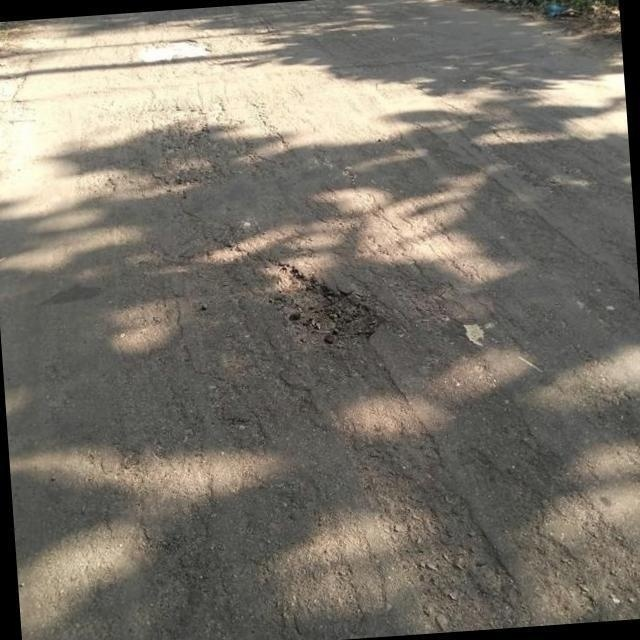pothole: (280, 268, 364, 339)
